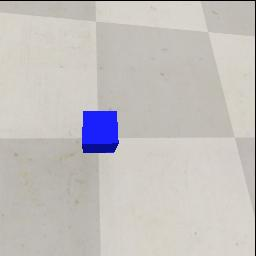box: (82, 111, 119, 153)
